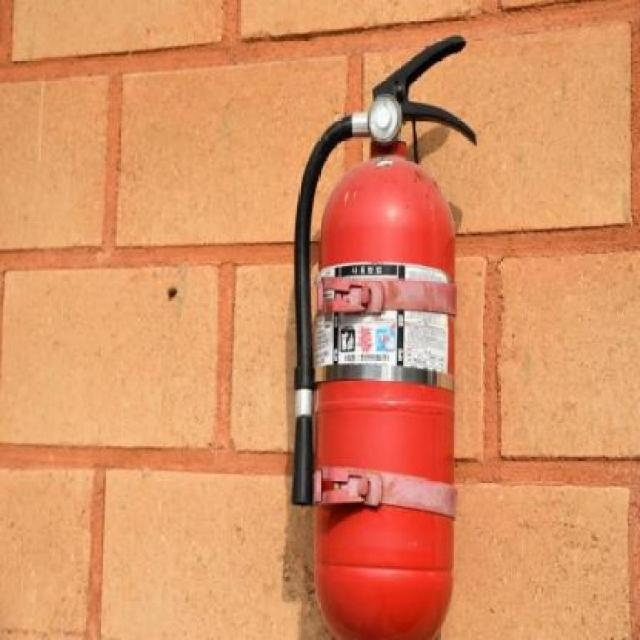fire extinguisher: (290, 34, 476, 640)
